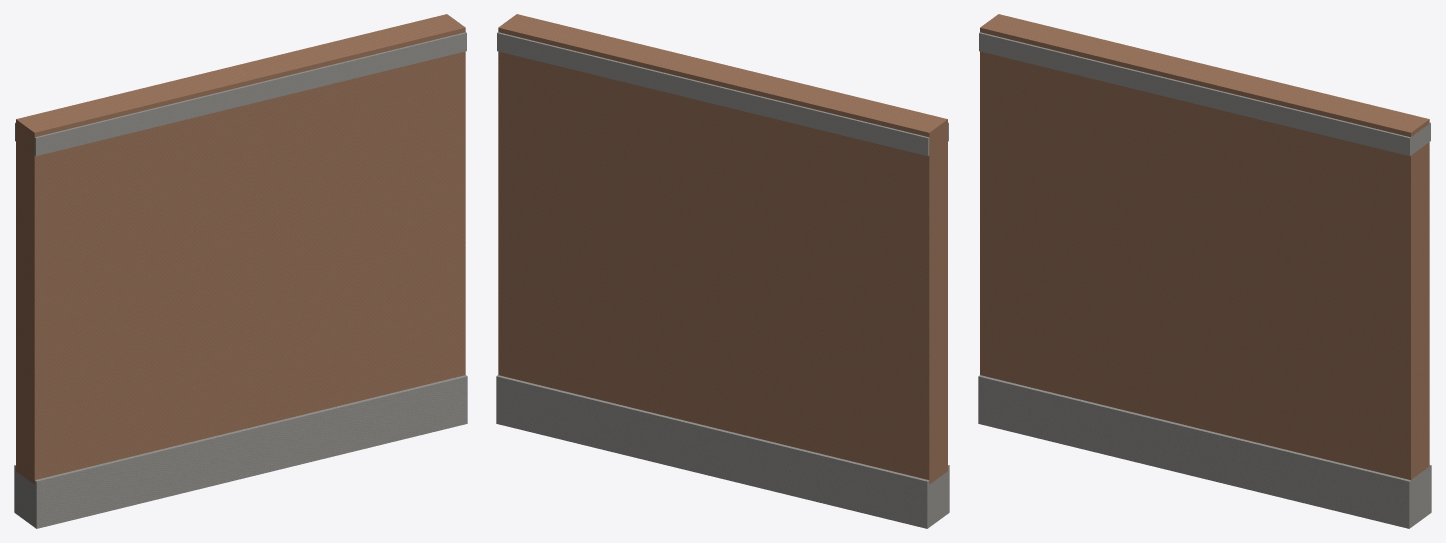
File: OchreWallBay_CC0.glb
3 views of the same model, side by side, from view 1: azimuth 30°, elevation 25°; view 2: azimuth 150°, elevation 25°; view 3: azimuth 330°, elevation 25° (orthographic).
Parts seen in each view (by area): view 1: wall-ochre-bay; view 2: wall-ochre-bay; view 3: wall-ochre-bay.
Boxes of the visible parts, x1=… form: wall-ochre-bay: x1=14, y1=14, x2=467, y2=528; wall-ochre-bay: x1=496, y1=14, x2=949, y2=528; wall-ochre-bay: x1=978, y1=14, x2=1431, y2=528.
Bounding box in the file's own units: 4 × 3.5 × 0.3599.
Materials: 2 (2 with a texture image).
